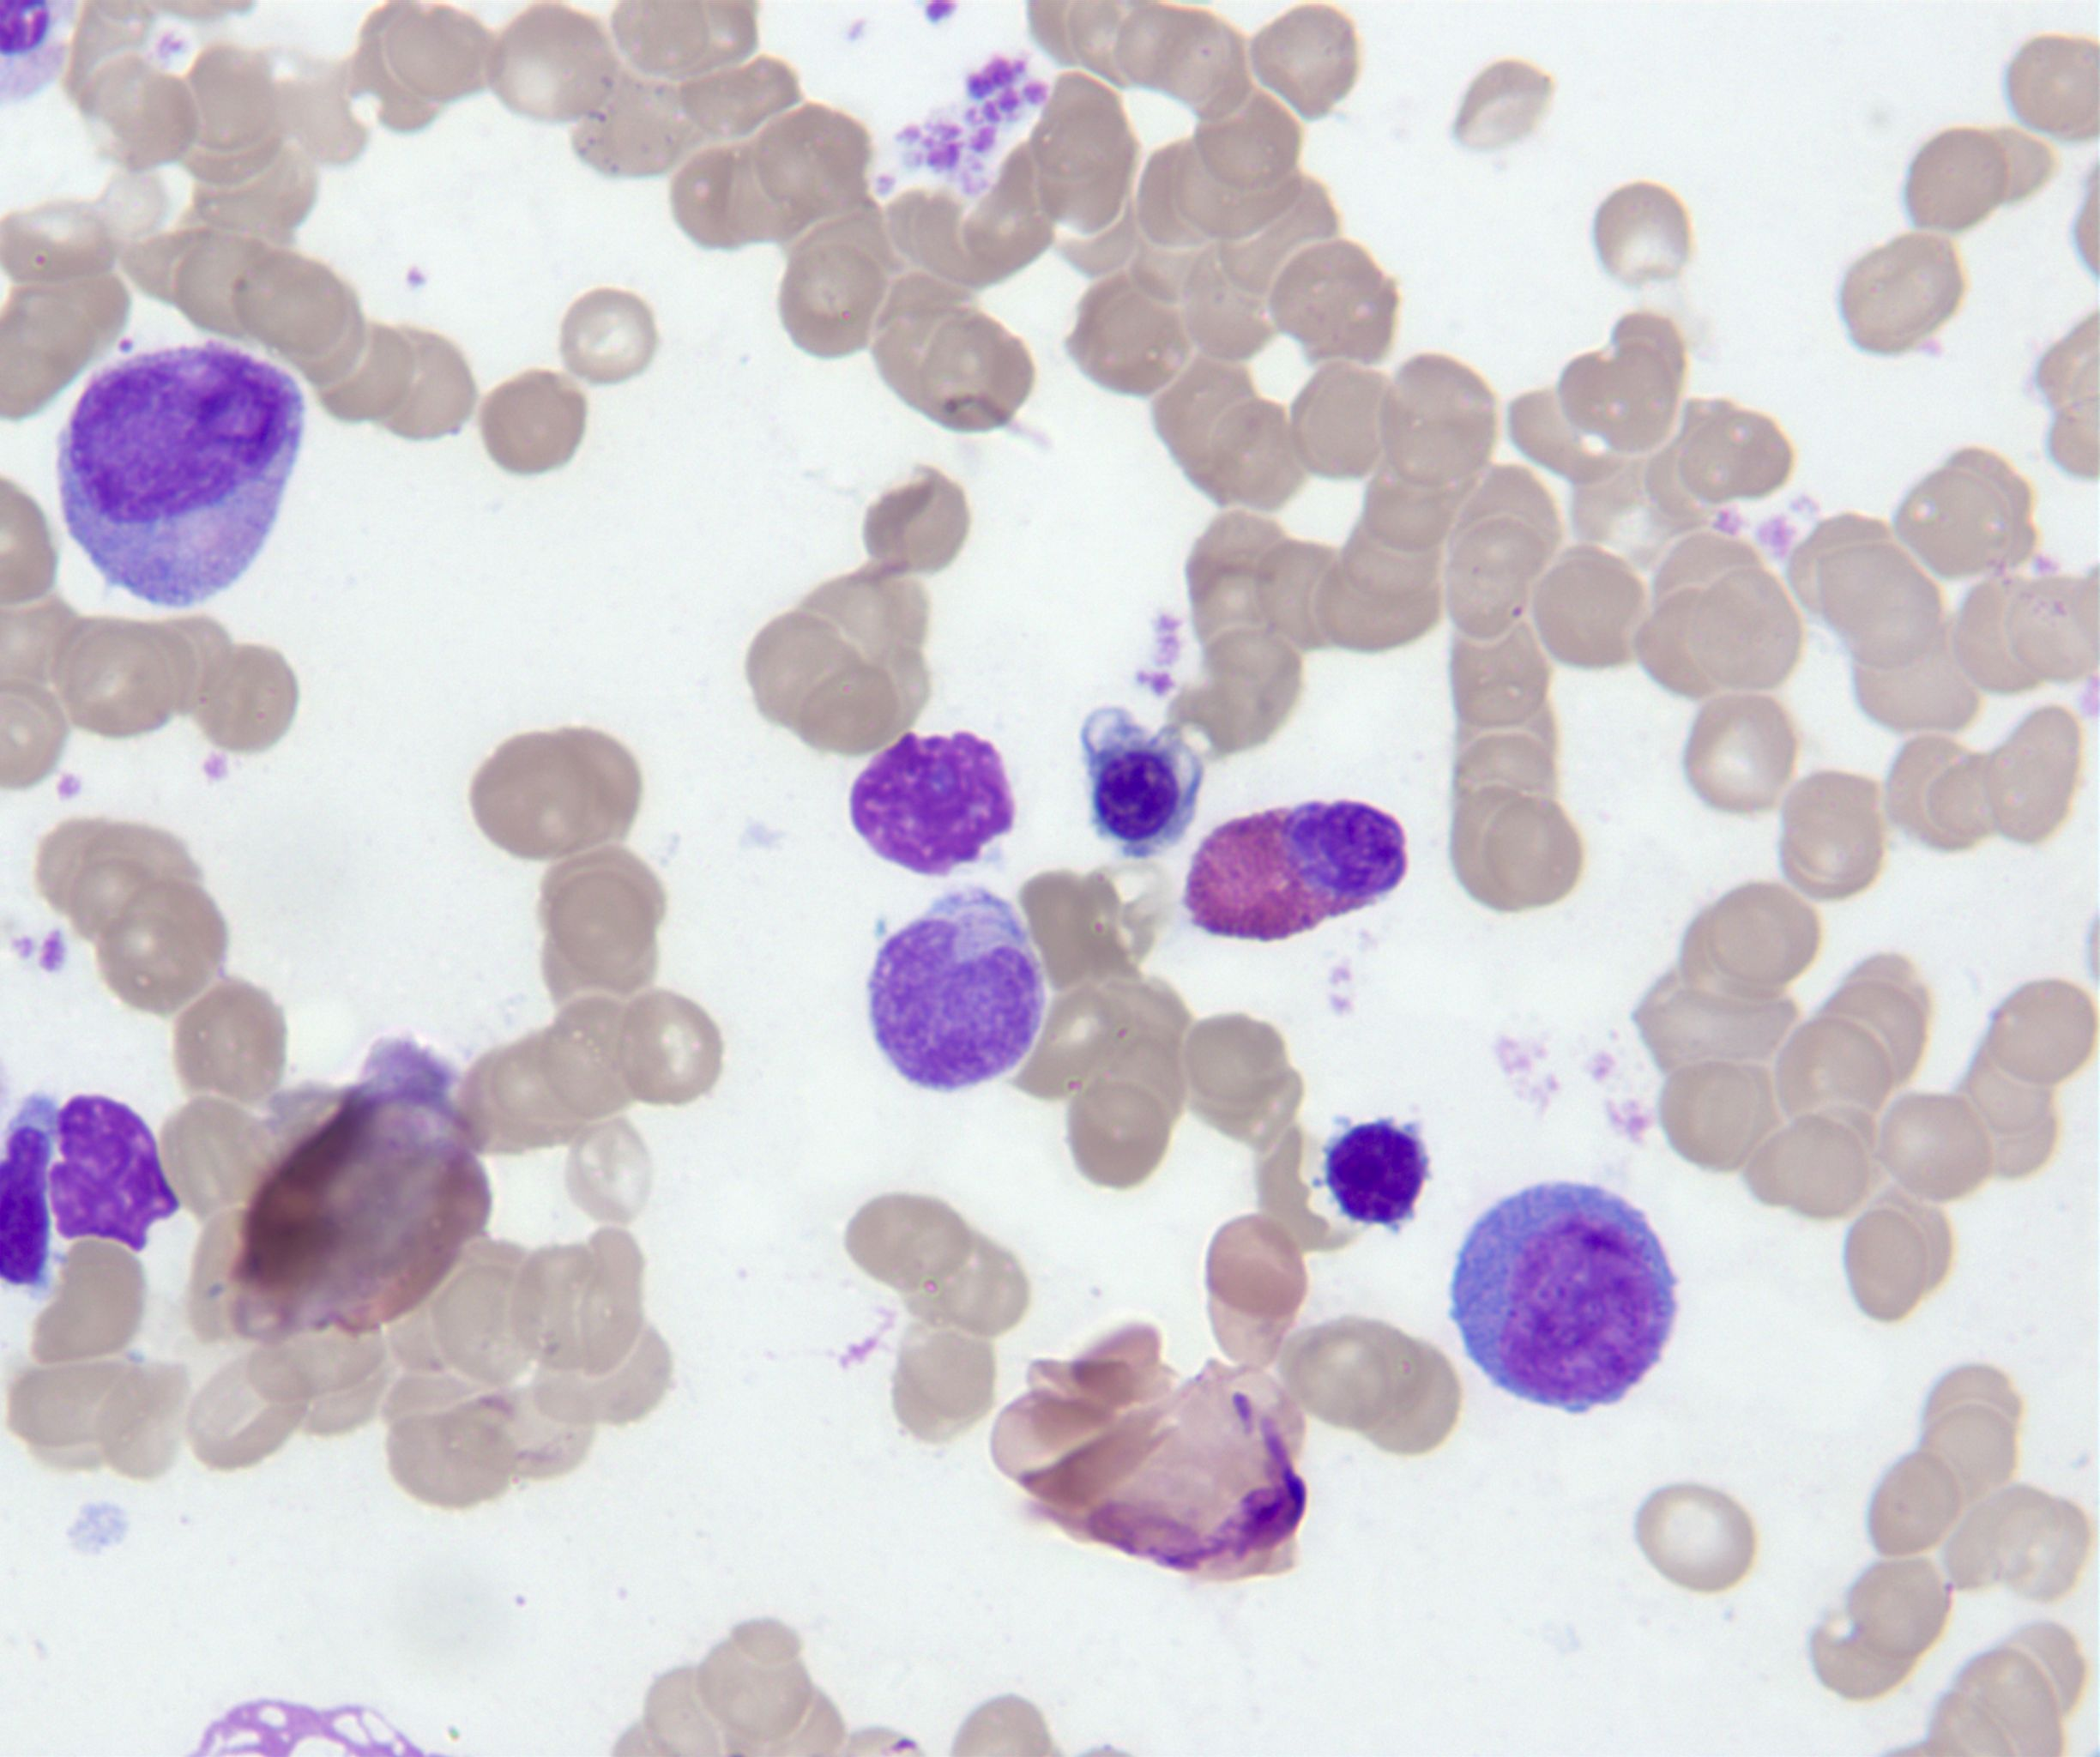24: (1081, 705, 1205, 862)
3: (58, 344, 303, 605), (1451, 1181, 1678, 1415)
32: (1313, 1113, 1432, 1237)
42: (867, 885, 1047, 1090)
E4: (1184, 799, 1408, 942)
x: (851, 729, 1017, 879), (47, 1097, 178, 1251)
